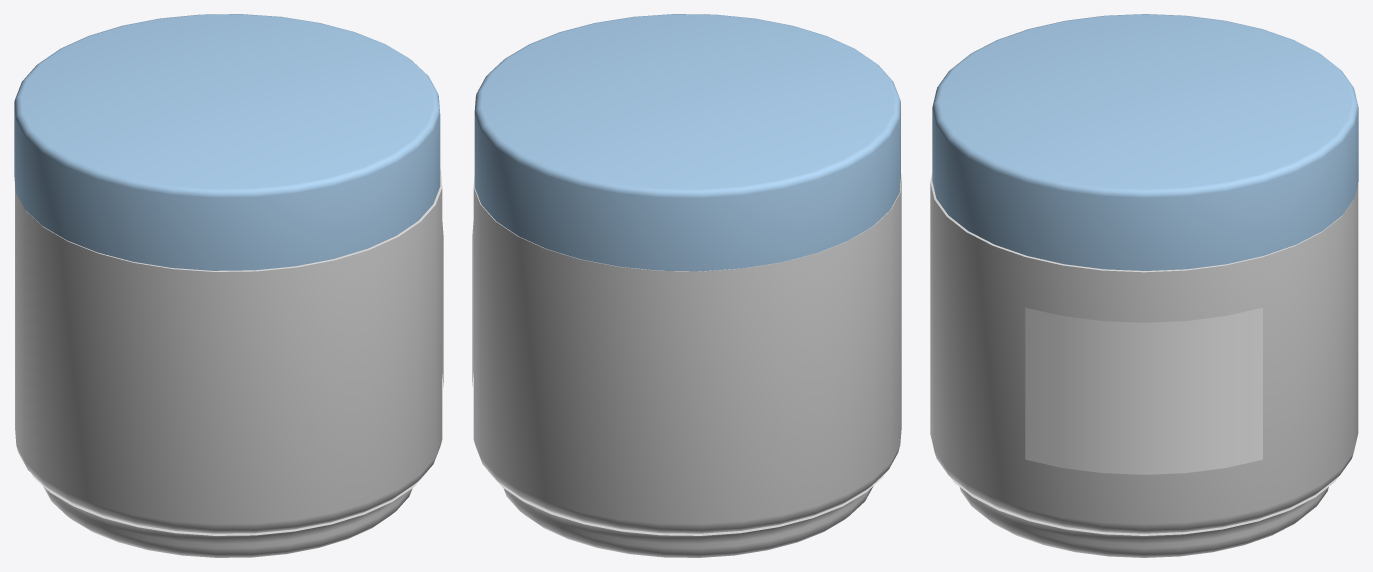
The model's file is 凡士林.fbx.
The picture shows the model from 3 angles, left to right: view 1: azimuth 30°, elevation 25°; view 2: azimuth 150°, elevation 25°; view 3: azimuth 270°, elevation 25°; orthographic projection.
Parts seen in each view (by area): view 1: 圆柱体, 圆柱体_1; view 2: 圆柱体, 圆柱体_1; view 3: 圆柱体_1, 圆柱体, 圆柱体_2.
Boxes of the visible parts, x1=… form: 圆柱体: x1=15, y1=169, x2=442, y2=557; 圆柱体_1: x1=14, y1=14, x2=440, y2=270; 圆柱体: x1=473, y1=174, x2=901, y2=557; 圆柱体_1: x1=474, y1=14, x2=900, y2=271; 圆柱体_1: x1=932, y1=14, x2=1358, y2=270; 圆柱体: x1=930, y1=174, x2=1358, y2=557; 圆柱体_2: x1=1025, y1=307, x2=1262, y2=474.
Bounding box in the file's own units: 21.83 × 21.39 × 21.77.
